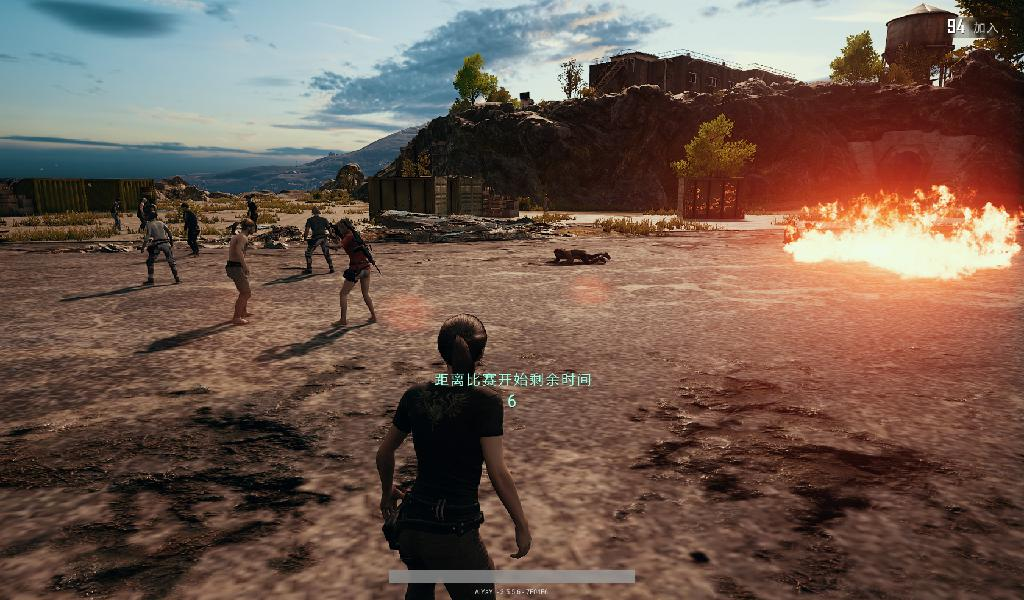Target Person: (376, 315, 534, 600), (332, 217, 377, 325), (225, 218, 256, 325), (142, 208, 181, 286), (302, 204, 336, 275), (178, 199, 202, 259), (546, 247, 612, 268), (244, 192, 258, 236), (108, 195, 121, 232)
